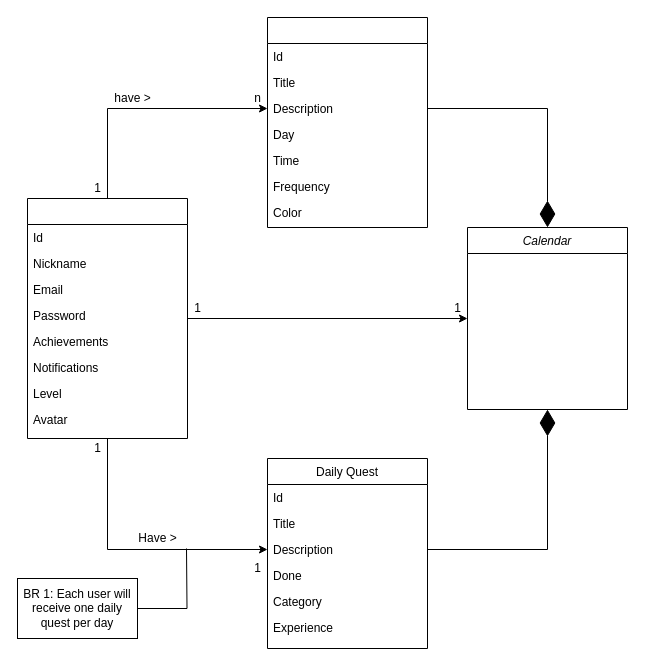
Some shapes in this 645 by 666 pixel diagram are drawn without their labels. Here are the shapes that lost their labels. From the top down, the box of each, then its label:
(266, 16, 428, 228): Task
(26, 198, 188, 438): User
